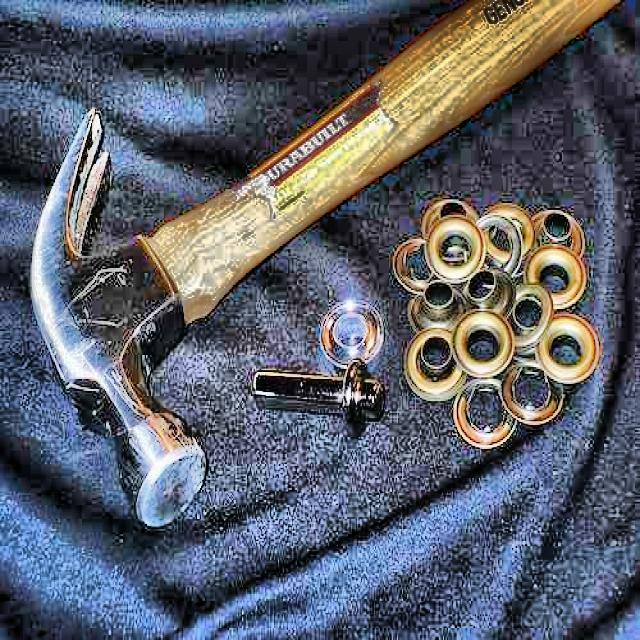hammer: (30, 0, 626, 530)
